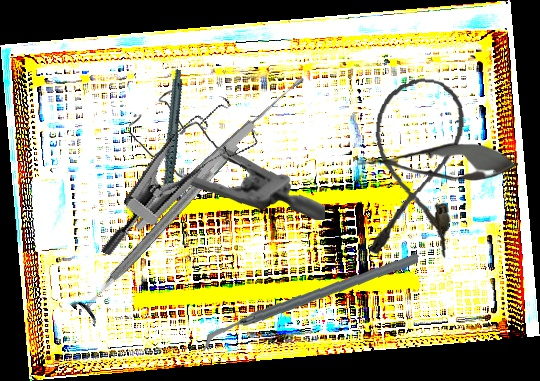Cannula: (362, 72, 469, 263)
Chopper: (201, 241, 419, 363)
Fixation Ring: (69, 133, 250, 329)
Handpiece: (130, 68, 211, 215)
Micro Scissor: (357, 142, 518, 183)
Speculum: (99, 78, 269, 292), (127, 83, 326, 227)
Surgical Spoon: (131, 73, 309, 234)
